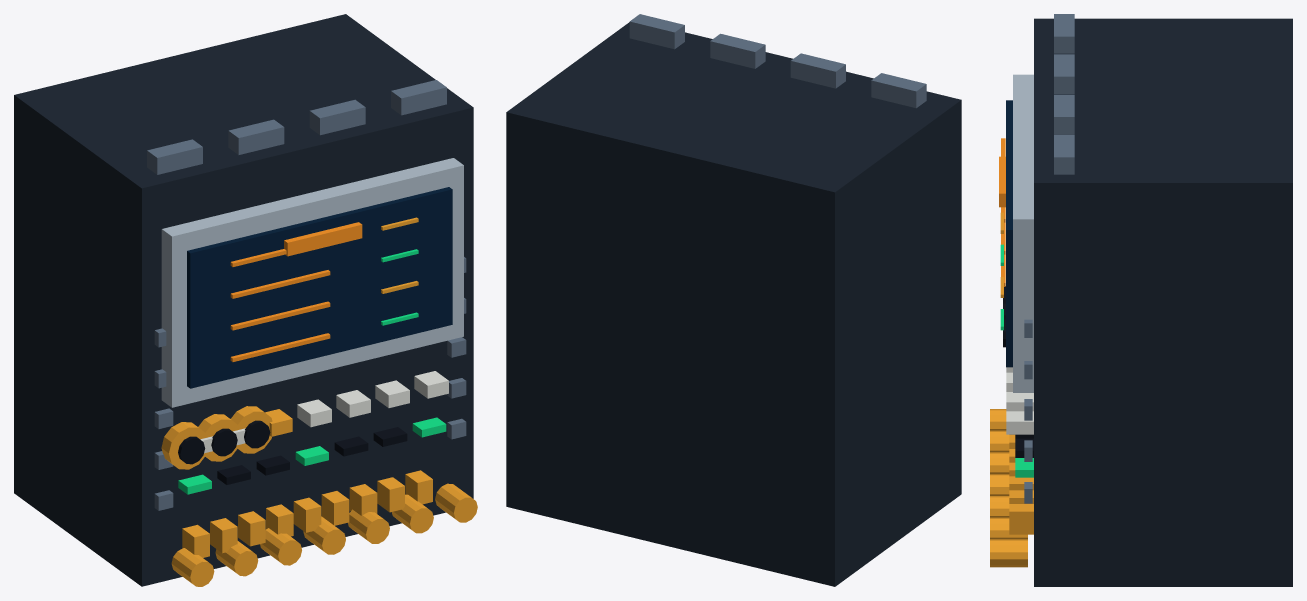
The model's file is 63_L87_HabitatThermalControlLoad.fbx.
3 renders of one model, left to right at view 1: azimuth 30°, elevation 25°; view 2: azimuth 150°, elevation 25°; view 3: azimuth 270°, elevation 25°, orthographic. The views are drawn at different scales.
Visible parts, largest first — view 1: L87_HabitatThermalControlLoad, L87_HabitatThermalControlLoad_Part_0010, L87_HabitatThermalControlLoad_Part_0011, L87_HabitatThermalControlLoad_Part_0012, L87_HabitatThermalControlLoad_Part_0016, L87_HabitatThermalControlLoad_Part_0014, L87_HabitatThermalControlLoad_Part_0013; view 2: L87_HabitatThermalControlLoad, L87_HabitatThermalControlLoad_Part_0010; view 3: L87_HabitatThermalControlLoad, L87_HabitatThermalControlLoad_Part_0010.
Boxes of the visible parts, x1=… form: L87_HabitatThermalControlLoad: x1=14, y1=14, x2=477, y2=586; L87_HabitatThermalControlLoad_Part_0010: x1=147, y1=80, x2=446, y2=174; L87_HabitatThermalControlLoad_Part_0011: x1=284, y1=222, x2=362, y2=256; L87_HabitatThermalControlLoad_Part_0012: x1=161, y1=422, x2=207, y2=469; L87_HabitatThermalControlLoad_Part_0016: x1=231, y1=406, x2=272, y2=453; L87_HabitatThermalControlLoad_Part_0014: x1=198, y1=414, x2=239, y2=461; L87_HabitatThermalControlLoad_Part_0013: x1=178, y1=436, x2=205, y2=464; L87_HabitatThermalControlLoad: x1=506, y1=22, x2=961, y2=586; L87_HabitatThermalControlLoad_Part_0010: x1=629, y1=14, x2=926, y2=108; L87_HabitatThermalControlLoad: x1=990, y1=18, x2=1292, y2=586; L87_HabitatThermalControlLoad_Part_0010: x1=1054, y1=14, x2=1074, y2=174.
Size of the model in its own units: 107 by 128 by 83.48.
